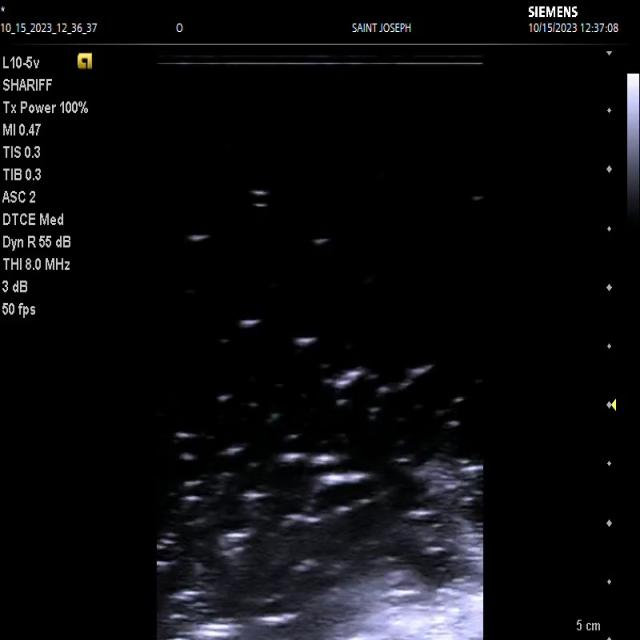tissue: (341, 534, 483, 640)
